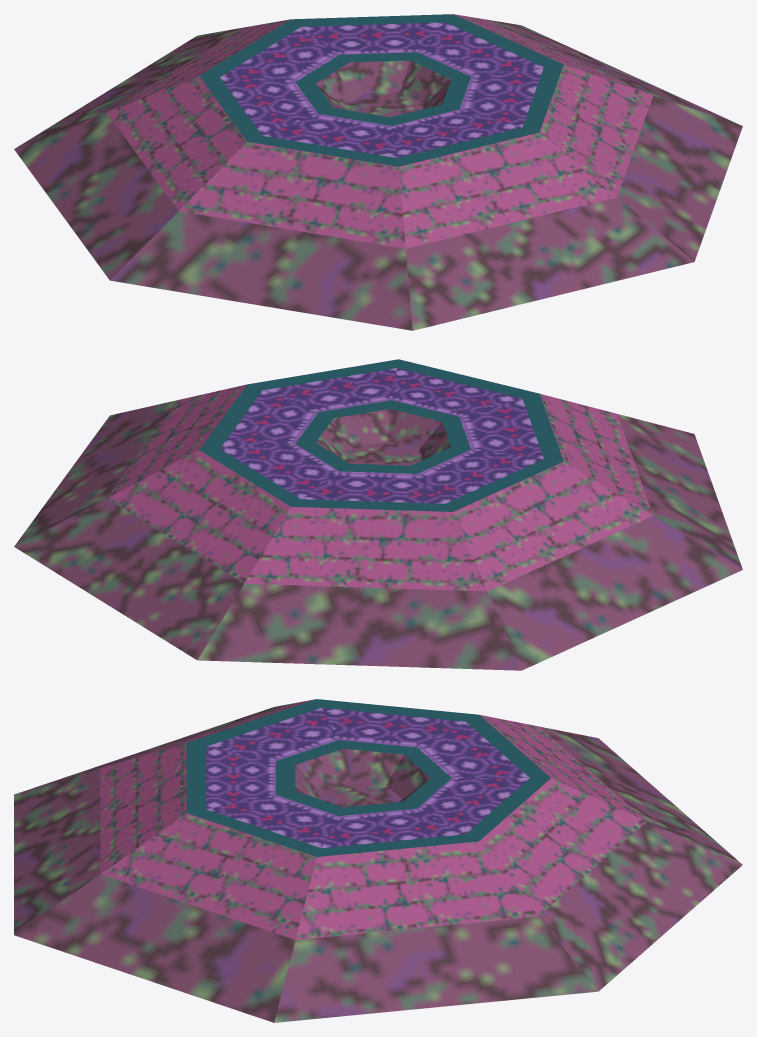
File: AlchemyPlatform.obj
The picture shows the model from 3 angles, top to bottom: view 1: azimuth 30°, elevation 25°; view 2: azimuth 150°, elevation 25°; view 3: azimuth 270°, elevation 25°; orthographic projection. The views are drawn at different scales.
Visible parts, largest first — view 1: AlchemyStation_Cylinder.007; view 2: AlchemyStation_Cylinder.007; view 3: AlchemyStation_Cylinder.007.
Part boxes in pixels (x1=…): AlchemyStation_Cylinder.007: x1=14, y1=14, x2=742, y2=330; AlchemyStation_Cylinder.007: x1=14, y1=359, x2=742, y2=670; AlchemyStation_Cylinder.007: x1=14, y1=699, x2=742, y2=1022.
Bounding box in the file's own units: 3.9 × 0.5 × 3.8.
